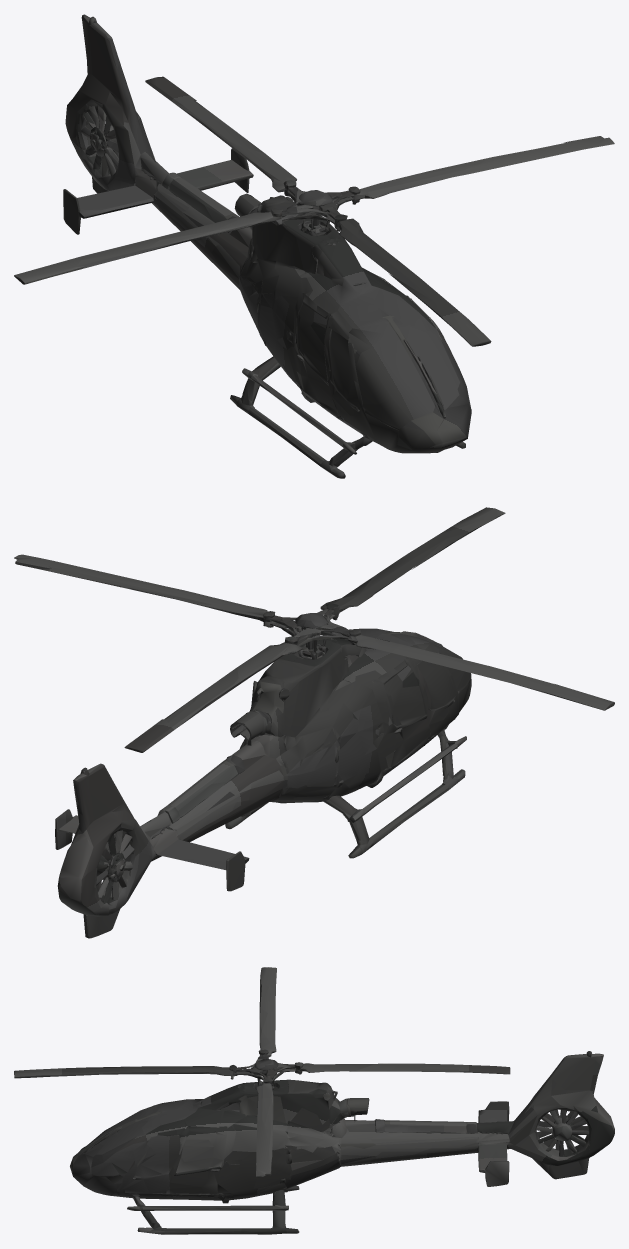
3 renders of one model, top to bottom at view 1: azimuth 30°, elevation 25°; view 2: azimuth 150°, elevation 25°; view 3: azimuth 270°, elevation 25°, orthographic. The views are drawn at different scales.
Parts seen in each view (by area): view 1: LO; view 2: LO; view 3: LO.
Boxes of the visible parts, x1,y1,x2,y2 form: LO: [14, 14, 614, 478]; LO: [14, 507, 614, 938]; LO: [14, 967, 614, 1234].
Size of the model in its own units: 10.69 by 3.88 by 13.03.
Materials: 1 (1 with a texture image).
